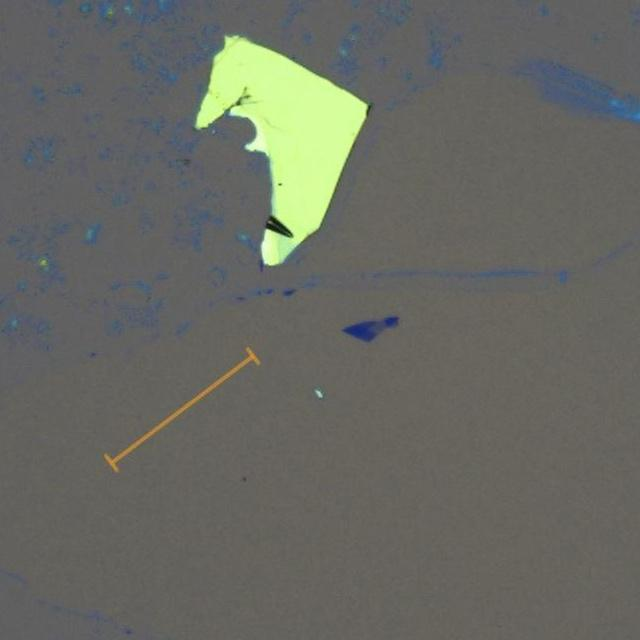monolayer-eWW4: (369, 318, 386, 333)
